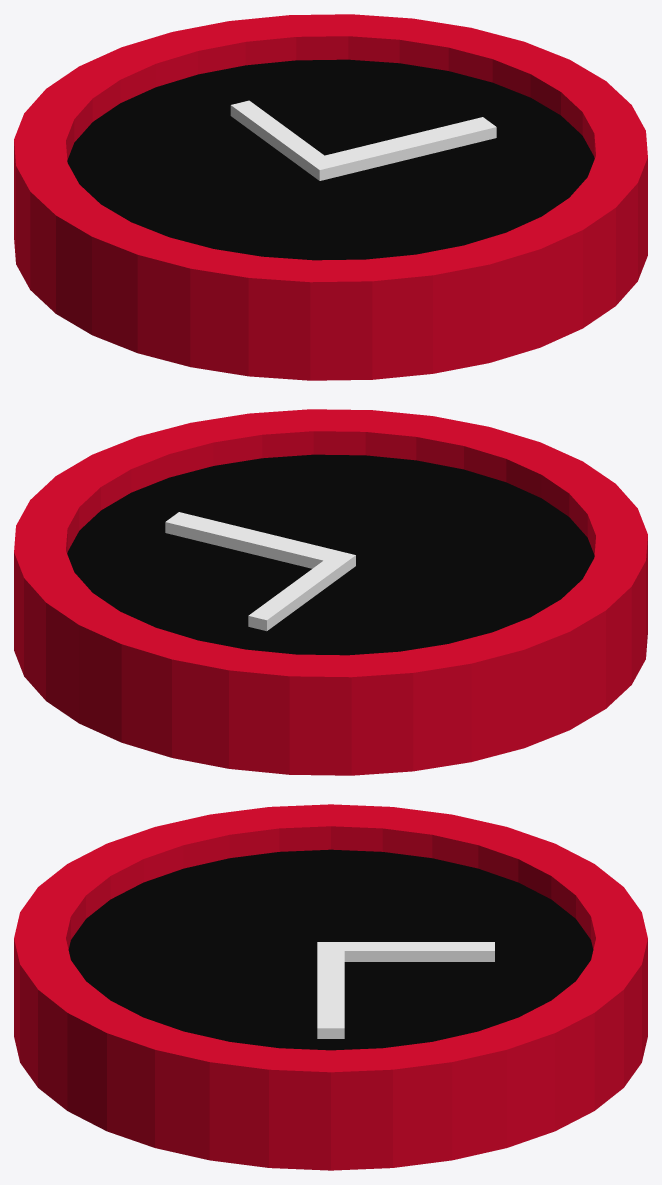
File: zegar.fbx
3 views of the same model, one above another, from view 1: azimuth 30°, elevation 25°; view 2: azimuth 150°, elevation 25°; view 3: azimuth 270°, elevation 25° (orthographic).
Parts seen in each view (by area): view 1: Clock; view 2: Clock; view 3: Clock.
Part boxes in pixels (box(x1,y1,x2,y2)): Clock: box(14, 14, 647, 380); Clock: box(14, 409, 647, 775); Clock: box(14, 804, 647, 1170).
Size of the model in its own units: 2 by 0.3422 by 2.
